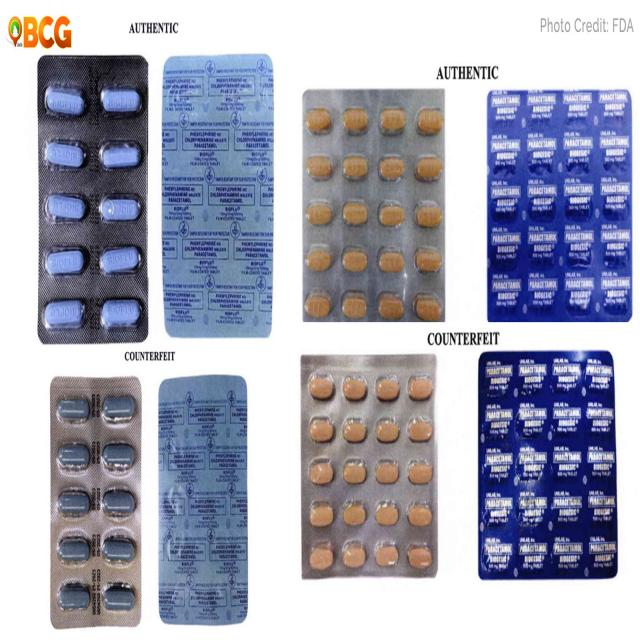authentic: (486, 86, 635, 320), (303, 87, 447, 325), (159, 51, 274, 338), (37, 56, 148, 342)
counterfeit: (478, 348, 619, 586), (302, 352, 439, 581), (47, 376, 142, 622), (158, 368, 250, 618)
